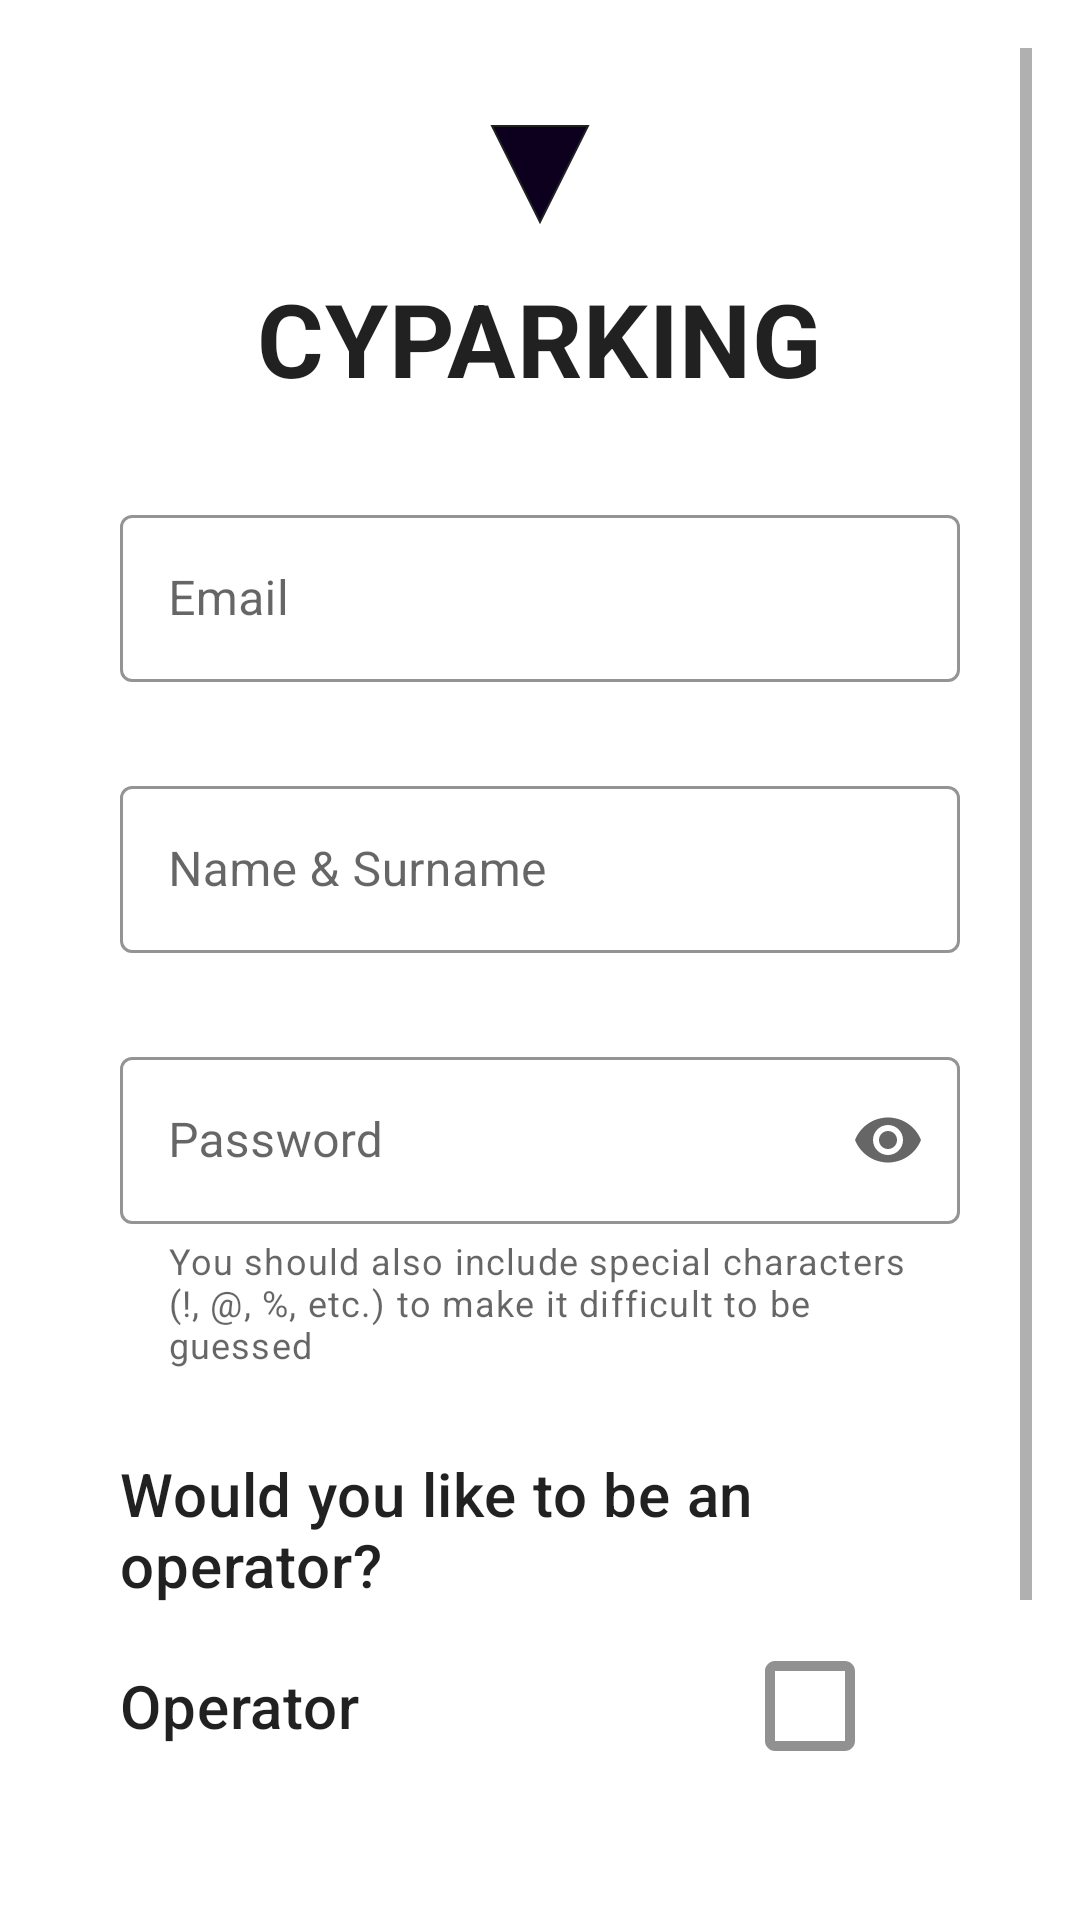

Named icons in this screenshot (1080 × 1920) and their bounding boxes, (x1, y1, x2, y2):
checkbox: (765, 1661, 855, 1751)
